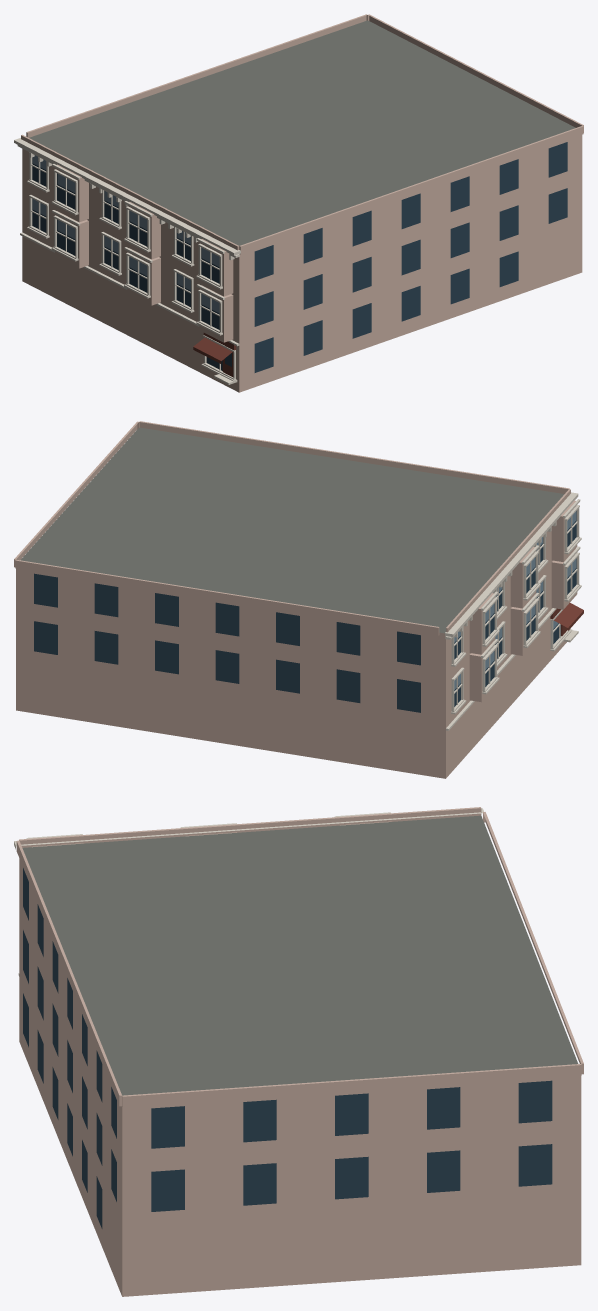
3 views of the same model, one above another, from view 1: azimuth 30°, elevation 25°; view 2: azimuth 150°, elevation 25°; view 3: azimuth 270°, elevation 25° (orthographic). The views are drawn at different scales.
Visible parts, largest first — view 1: Footprint 0 / surface 1, Footprint 0 / surface 2, Inset glazing, Facade bay volumes, Cornices and window frames, Sky reflection panels, Storefronts and doors; view 2: Footprint 0 / surface 1, Footprint 0 / surface 2, Facade bay volumes, Inset glazing, Cornices and window frames, Sky reflection panels, Storefronts and doors; view 3: Footprint 0 / surface 1, Footprint 0 / surface 2, Inset glazing, Facade bay volumes, Cornices and window frames.
Boxes of the visible parts, x1,y1,x2,y2 form: Footprint 0 / surface 1: [29, 20, 575, 245]; Footprint 0 / surface 2: [22, 135, 582, 392]; Inset glazing: [32, 142, 567, 372]; Facade bay volumes: [21, 14, 583, 342]; Cornices and window frames: [14, 138, 240, 384]; Sky reflection panels: [32, 155, 219, 313]; Storefronts and doors: [193, 333, 236, 376]; Footprint 0 / surface 1: [21, 427, 564, 633]; Footprint 0 / surface 2: [16, 531, 566, 778]; Facade bay volumes: [14, 421, 577, 702]; Inset glazing: [34, 511, 576, 712]; Cornices and window frames: [445, 492, 581, 730]; Sky reflection panels: [454, 511, 576, 689]; Storefronts and doors: [550, 603, 583, 636]; Footprint 0 / surface 1: [22, 815, 578, 1095]; Footprint 0 / surface 2: [19, 858, 581, 1296]; Inset glazing: [23, 868, 552, 1228]; Facade bay volumes: [16, 807, 583, 1107]; Cornices and window frames: [14, 808, 483, 976].
Size of the model in its own units: 29.68 by 9.48 by 24.33.
